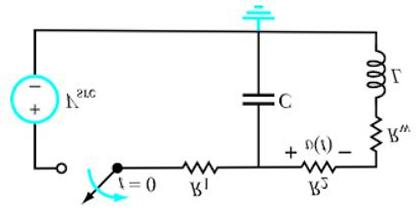inductor: (358, 36, 387, 107)
